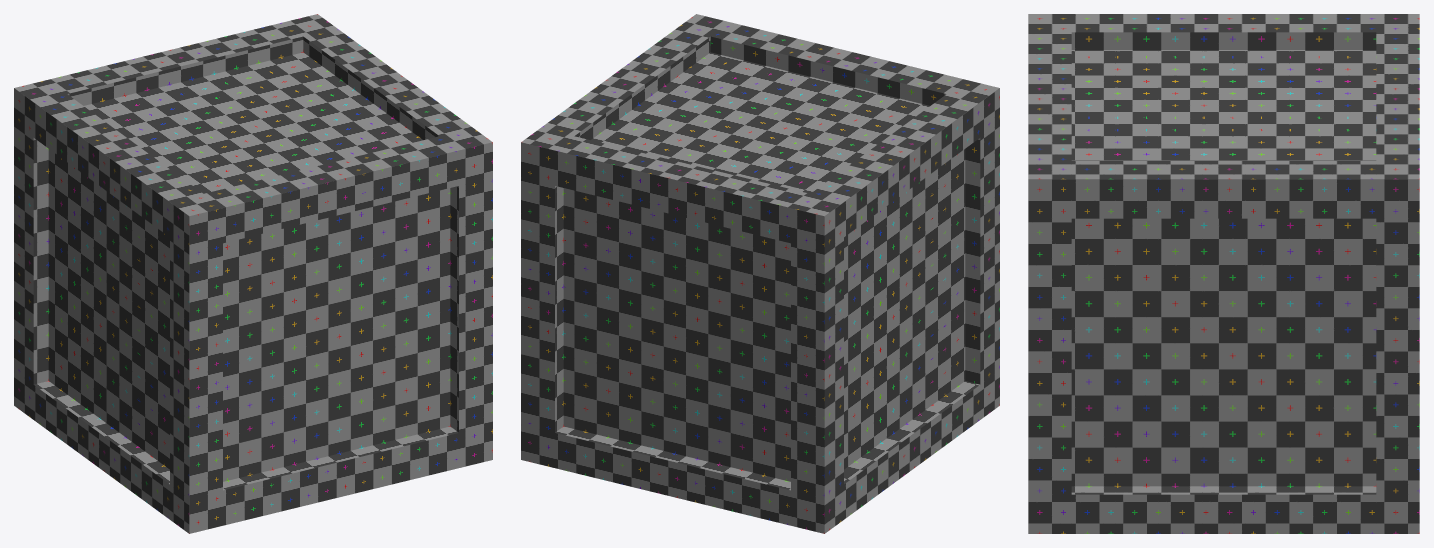
The model's file is 1m-cube-stick.glb.
3 views of the same model, side by side, from view 1: azimuth 30°, elevation 25°; view 2: azimuth 150°, elevation 25°; view 3: azimuth 270°, elevation 25° (orthographic). The views are drawn at different scales.
Parts seen in each view (by area): view 1: Cube; view 2: Cube; view 3: Cube.
Part boxes in pixels (x1,y1,x2,y2): Cube: (14,14,492,533); Cube: (521,14,999,533); Cube: (1028,14,1419,533).
Size of the model in its own units: 1 by 1 by 1.
Materials: 1 (1 with a texture image).
